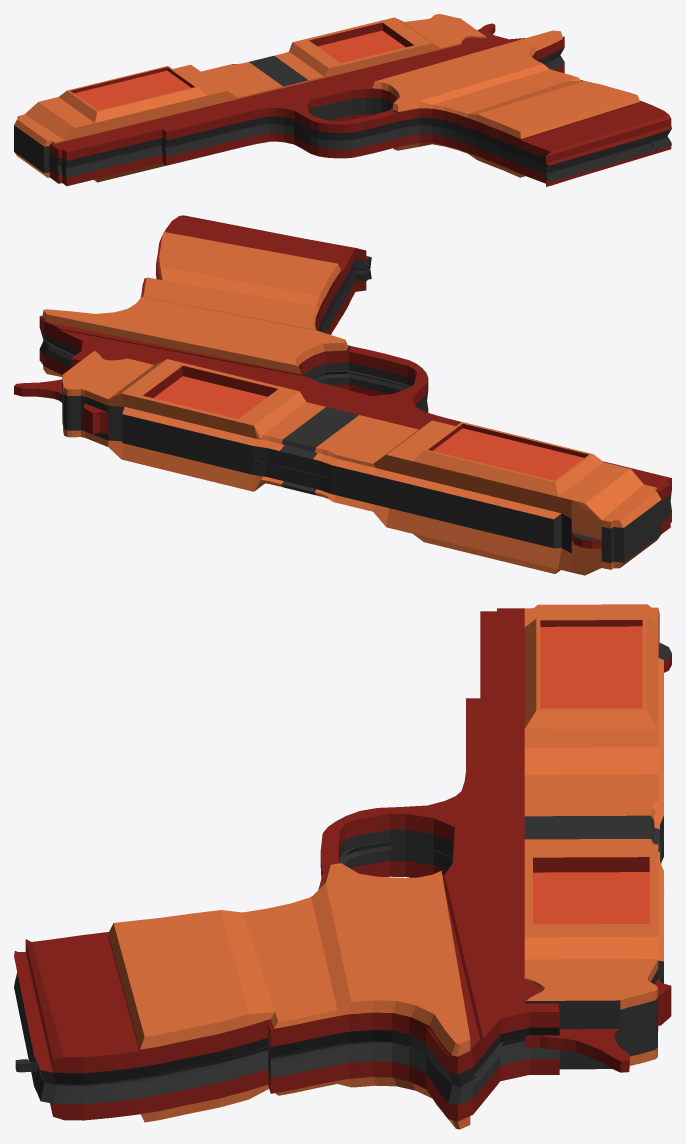
The model's file is ColtPistolFire.fbx.
3 renders of one model, top to bottom at view 1: azimuth 30°, elevation 25°; view 2: azimuth 150°, elevation 25°; view 3: azimuth 270°, elevation 25°, orthographic. The views are drawn at different scales.
Parts seen in each view (by area): view 1: Handle, GunShaft; view 2: GunShaft, Handle; view 3: Handle, GunShaft.
Part boxes in pixels (box(x1,y1,x2,y2)): Handle: box(49, 29, 671, 186); GunShaft: box(14, 14, 495, 182); GunShaft: box(14, 351, 661, 575); Handle: box(39, 215, 671, 533); Handle: box(14, 608, 559, 1129); GunShaft: box(524, 604, 671, 1072).
Bounding box in the file's own units: 470 × 63.31 × 288.
